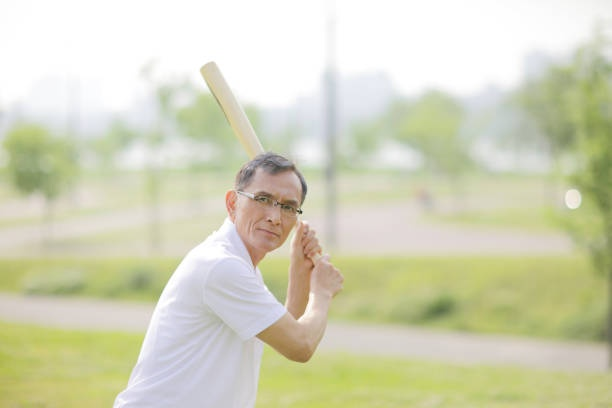bita: (194, 55, 262, 155)
